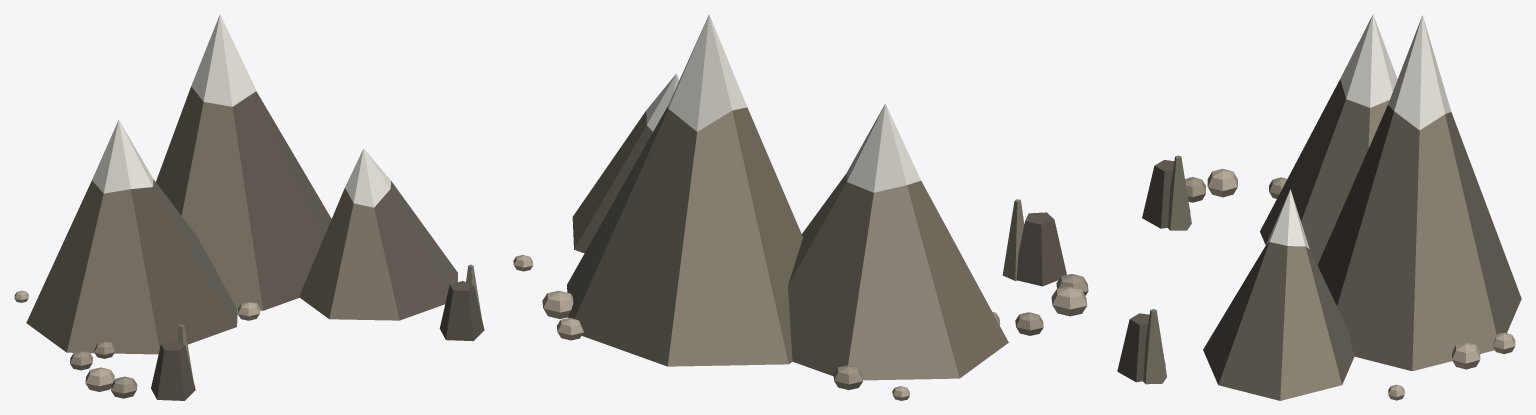
File: terrain-mountain-0.glb
The picture shows the model from 3 angles, left to right: view 1: azimuth 30°, elevation 25°; view 2: azimuth 150°, elevation 25°; view 3: azimuth 270°, elevation 25°; orthographic projection. The views are drawn at different scales.
Visible parts, largest first — view 1: terrain-mountain-0.002, terrain-mountain-0.003, terrain-mountain-0.004, terrain-mountain-0.001, terrain-mountain-0, terrain-mountain-0.007, terrain-mountain-0.008, terrain-mountain-0.006; view 2: terrain-mountain-0.005, terrain-mountain-0, terrain-mountain-0.004, terrain-mountain-0.001, terrain-mountain-0.006, terrain-mountain-0.002, terrain-mountain-0.008, terrain-mountain-0.007; view 3: terrain-mountain-0, terrain-mountain-0.006, terrain-mountain-0.002, terrain-mountain-0.001, terrain-mountain-0.008, terrain-mountain-0.007.
Boxes of the visible parts, x1=… form: terrain-mountain-0.002: x1=131, y1=91, x2=484, y2=400; terrain-mountain-0.003: x1=67, y1=102, x2=399, y2=354; terrain-mountain-0.004: x1=26, y1=86, x2=353, y2=352; terrain-mountain-0.001: x1=92, y1=14, x2=390, y2=207; terrain-mountain-0: x1=153, y1=91, x2=457, y2=326; terrain-mountain-0.007: x1=70, y1=341, x2=137, y2=398; terrain-mountain-0.008: x1=14, y1=290, x2=260, y2=391; terrain-mountain-0.006: x1=177, y1=264, x2=481, y2=377; terrain-mountain-0.005: x1=667, y1=111, x2=959, y2=380; terrain-mountain-0: x1=574, y1=109, x2=873, y2=376; terrain-mountain-0.004: x1=732, y1=107, x2=1008, y2=378; terrain-mountain-0.001: x1=646, y1=14, x2=920, y2=192; terrain-mountain-0.006: x1=567, y1=106, x2=1024, y2=318; terrain-mountain-0.002: x1=1016, y1=212, x2=1066, y2=286; terrain-mountain-0.008: x1=513, y1=255, x2=1087, y2=400; terrain-mountain-0.007: x1=833, y1=274, x2=1088, y2=389; terrain-mountain-0: x1=1218, y1=99, x2=1521, y2=400; terrain-mountain-0.006: x1=1143, y1=100, x2=1496, y2=400; terrain-mountain-0.002: x1=1117, y1=79, x2=1393, y2=384; terrain-mountain-0.001: x1=1265, y1=14, x2=1451, y2=249; terrain-mountain-0.008: x1=1207, y1=168, x2=1515, y2=400; terrain-mountain-0.007: x1=1185, y1=177, x2=1287, y2=202.
Bounding box in the file's own units: 1.26 × 0.7905 × 0.9802.
